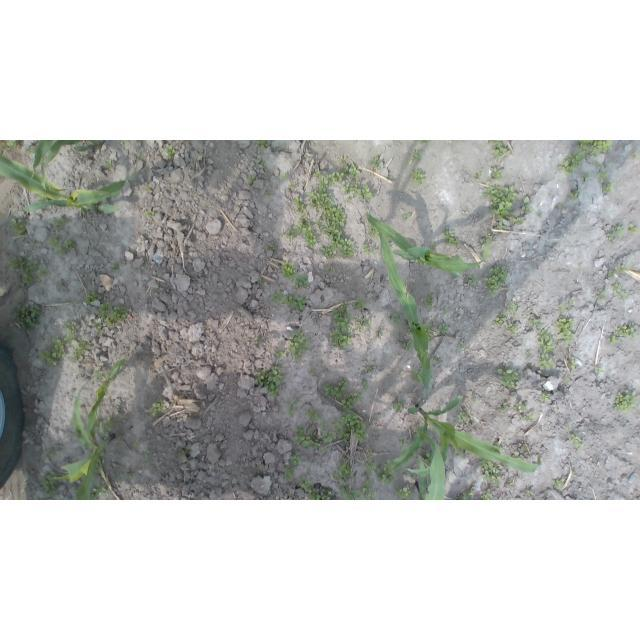Maize: (382, 396, 542, 481), (49, 358, 126, 500), (379, 230, 431, 415), (366, 211, 490, 282), (1, 153, 128, 215), (30, 140, 102, 192), (414, 430, 447, 500)
Weeds: (306, 185, 347, 240), (483, 185, 520, 221), (328, 302, 353, 351), (332, 411, 369, 444), (287, 212, 317, 247), (96, 302, 129, 333), (254, 366, 284, 398), (12, 304, 41, 333), (38, 336, 66, 366), (271, 291, 307, 311), (484, 267, 508, 296), (287, 331, 310, 361), (557, 152, 583, 177), (576, 141, 612, 158), (344, 181, 373, 202), (330, 237, 356, 259), (613, 390, 639, 412), (480, 457, 501, 484), (556, 316, 575, 345), (324, 378, 349, 399), (48, 235, 74, 255), (537, 328, 557, 354), (314, 170, 345, 186), (336, 481, 362, 500), (42, 474, 61, 500), (497, 369, 520, 390), (72, 339, 91, 364), (332, 459, 353, 481), (341, 392, 363, 412), (294, 425, 314, 447), (23, 260, 38, 288), (377, 463, 395, 484), (616, 323, 637, 341), (362, 476, 377, 500), (63, 320, 77, 344), (443, 230, 461, 247), (492, 140, 509, 158), (281, 261, 296, 281), (308, 488, 333, 500), (394, 485, 414, 500), (90, 483, 107, 500), (10, 218, 26, 236), (410, 170, 426, 187), (538, 354, 554, 370), (571, 433, 585, 451), (148, 402, 166, 416), (287, 397, 300, 416), (608, 265, 628, 277), (319, 245, 336, 259), (354, 317, 371, 331), (344, 163, 361, 177), (459, 486, 476, 500), (103, 417, 118, 432), (313, 439, 329, 453), (320, 432, 337, 445), (364, 459, 377, 476), (8, 257, 25, 270), (163, 145, 177, 160), (490, 167, 505, 181), (293, 196, 306, 212), (304, 408, 320, 421), (290, 449, 303, 465), (559, 299, 573, 313), (367, 224, 380, 238), (479, 235, 493, 248), (508, 215, 526, 225), (284, 468, 297, 481), (369, 156, 382, 169), (392, 400, 405, 413), (84, 291, 96, 305), (507, 301, 518, 316), (521, 196, 530, 214), (296, 276, 309, 288), (411, 370, 423, 383), (300, 480, 312, 493), (492, 313, 505, 325), (552, 478, 565, 490), (515, 401, 528, 413), (1, 140, 20, 148), (612, 225, 624, 237), (455, 412, 466, 425), (423, 451, 433, 465), (43, 451, 57, 461), (362, 244, 379, 252), (354, 296, 365, 308), (391, 313, 402, 325), (481, 489, 493, 500), (568, 190, 580, 201), (495, 220, 508, 230), (424, 295, 433, 309), (104, 159, 115, 170), (437, 323, 449, 333), (412, 148, 422, 160), (628, 223, 638, 235), (602, 180, 612, 192), (523, 412, 536, 421), (263, 244, 277, 252), (37, 268, 48, 278), (55, 216, 65, 227), (507, 323, 518, 333), (607, 234, 617, 245), (256, 140, 269, 148), (402, 341, 412, 351), (607, 335, 617, 345), (247, 175, 256, 186), (402, 212, 413, 221), (466, 276, 477, 285), (531, 319, 542, 328), (93, 462, 101, 474), (494, 443, 504, 452), (541, 394, 551, 403), (92, 370, 102, 379), (597, 172, 608, 180), (127, 468, 134, 480), (276, 348, 285, 357), (613, 284, 622, 293), (430, 355, 440, 363), (144, 209, 154, 217), (500, 403, 508, 413), (570, 360, 577, 371), (426, 329, 433, 340), (600, 290, 607, 301), (280, 172, 289, 180), (474, 171, 482, 180), (619, 292, 627, 301), (112, 262, 121, 270), (362, 379, 369, 389), (420, 140, 433, 145), (320, 420, 328, 428), (257, 157, 265, 165), (596, 366, 604, 374), (132, 440, 140, 448), (400, 438, 409, 445), (144, 450, 151, 459), (580, 172, 590, 178), (308, 369, 316, 376), (145, 184, 153, 191), (524, 491, 532, 498), (467, 412, 473, 421), (525, 348, 531, 357), (563, 377, 570, 384), (364, 367, 372, 373), (340, 157, 346, 164), (255, 336, 260, 344), (594, 161, 600, 167), (142, 229, 147, 236), (429, 244, 435, 249), (444, 309, 449, 315), (258, 278, 263, 284), (177, 452, 183, 457), (388, 176, 393, 181), (460, 344, 465, 349), (377, 331, 382, 336), (514, 451, 520, 455), (388, 243, 392, 249), (568, 425, 572, 431), (506, 484, 510, 488), (280, 232, 283, 237)
